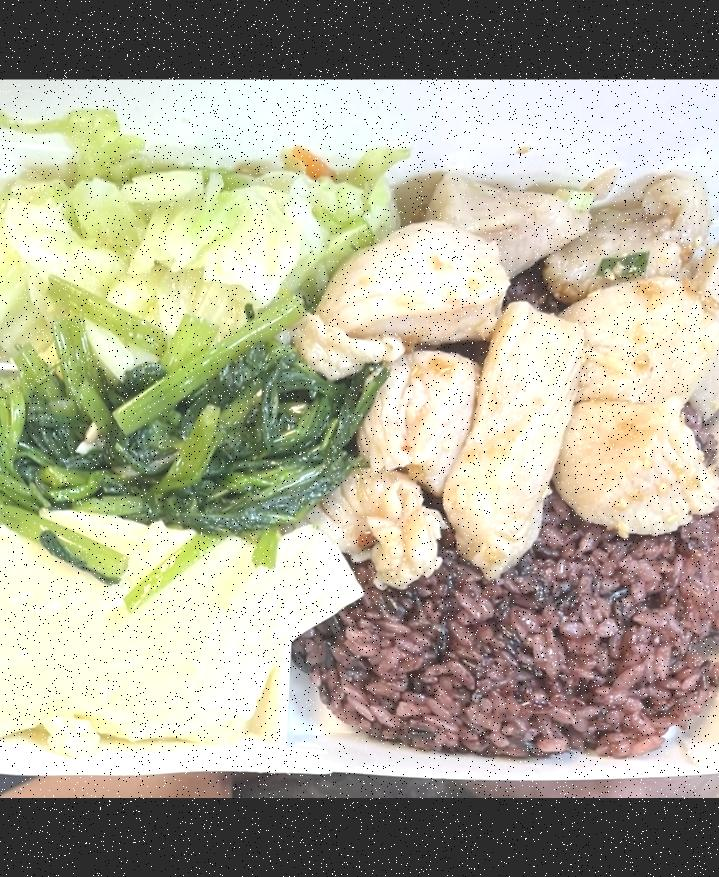box: (0, 115, 719, 793)
purple rice: (305, 521, 719, 757)
scallion chicken: (322, 165, 719, 566)
side dish: (0, 515, 365, 749), (0, 146, 389, 357), (0, 353, 371, 531)
